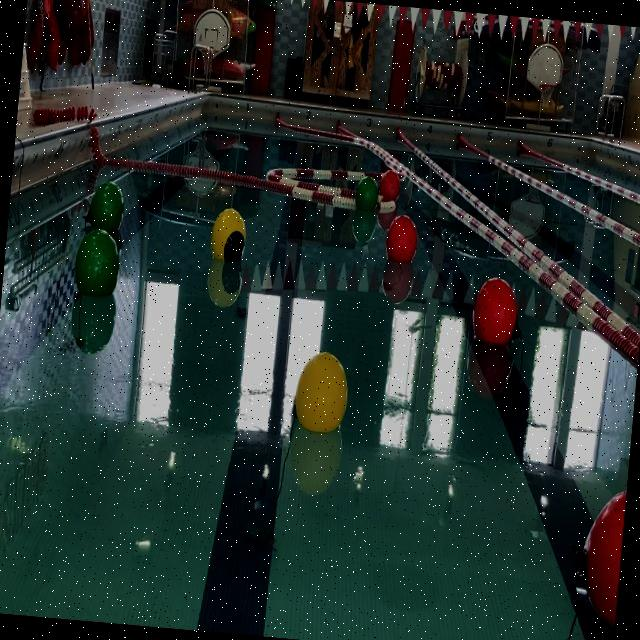buoy: (570, 484, 626, 627), (286, 348, 350, 432), (471, 273, 526, 348), (72, 226, 122, 302), (85, 179, 126, 238), (210, 206, 248, 266), (387, 214, 421, 266), (353, 176, 380, 213), (378, 171, 400, 201)
